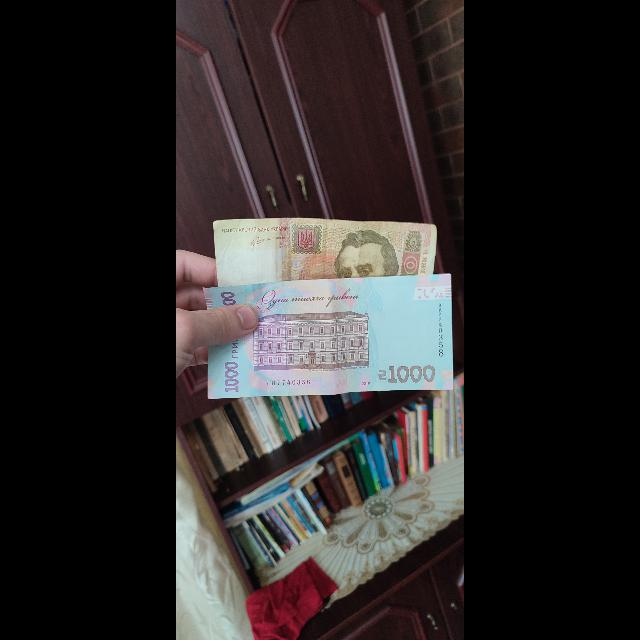1000uah: (205, 278, 454, 398)
100uah: (213, 223, 436, 286)
